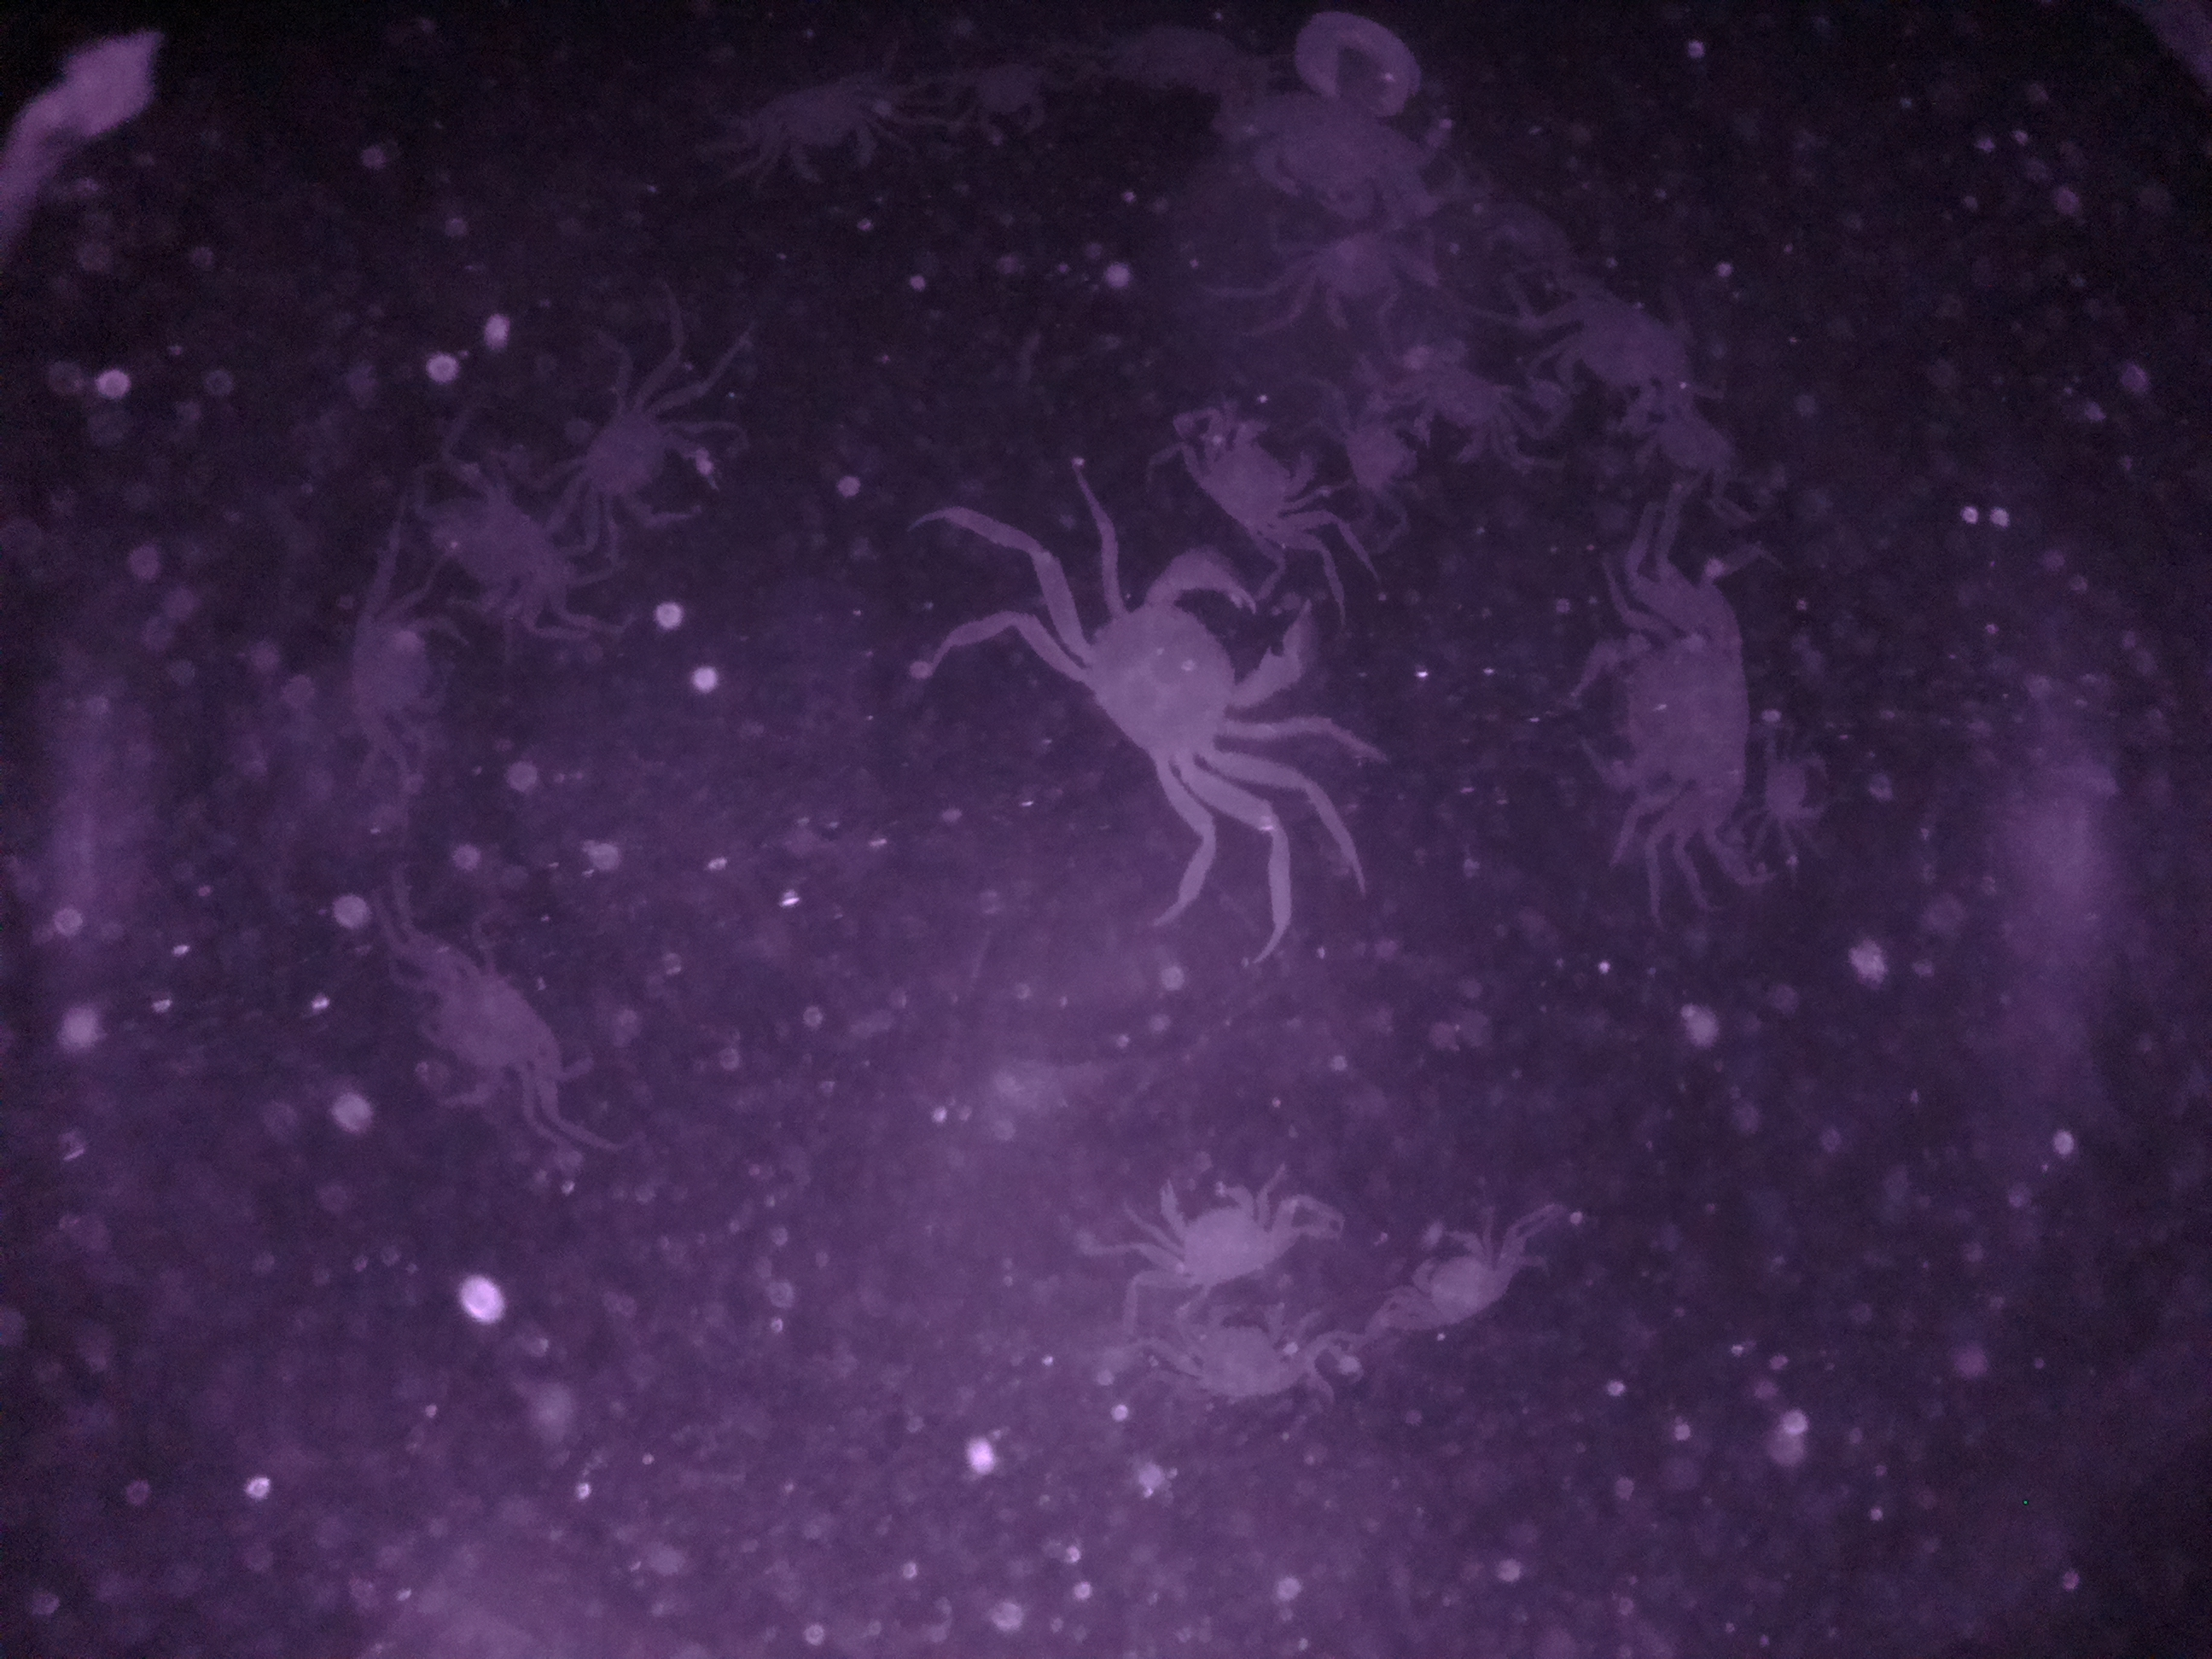Crab: (1021, 552, 1324, 836), (1562, 587, 1778, 831), (556, 376, 733, 558), (1148, 387, 1341, 549), (1096, 1164, 1324, 1290), (737, 51, 918, 204), (1374, 1199, 1547, 1359), (1143, 1284, 1357, 1405), (341, 573, 474, 767), (1259, 218, 1458, 343), (1378, 342, 1522, 474)
